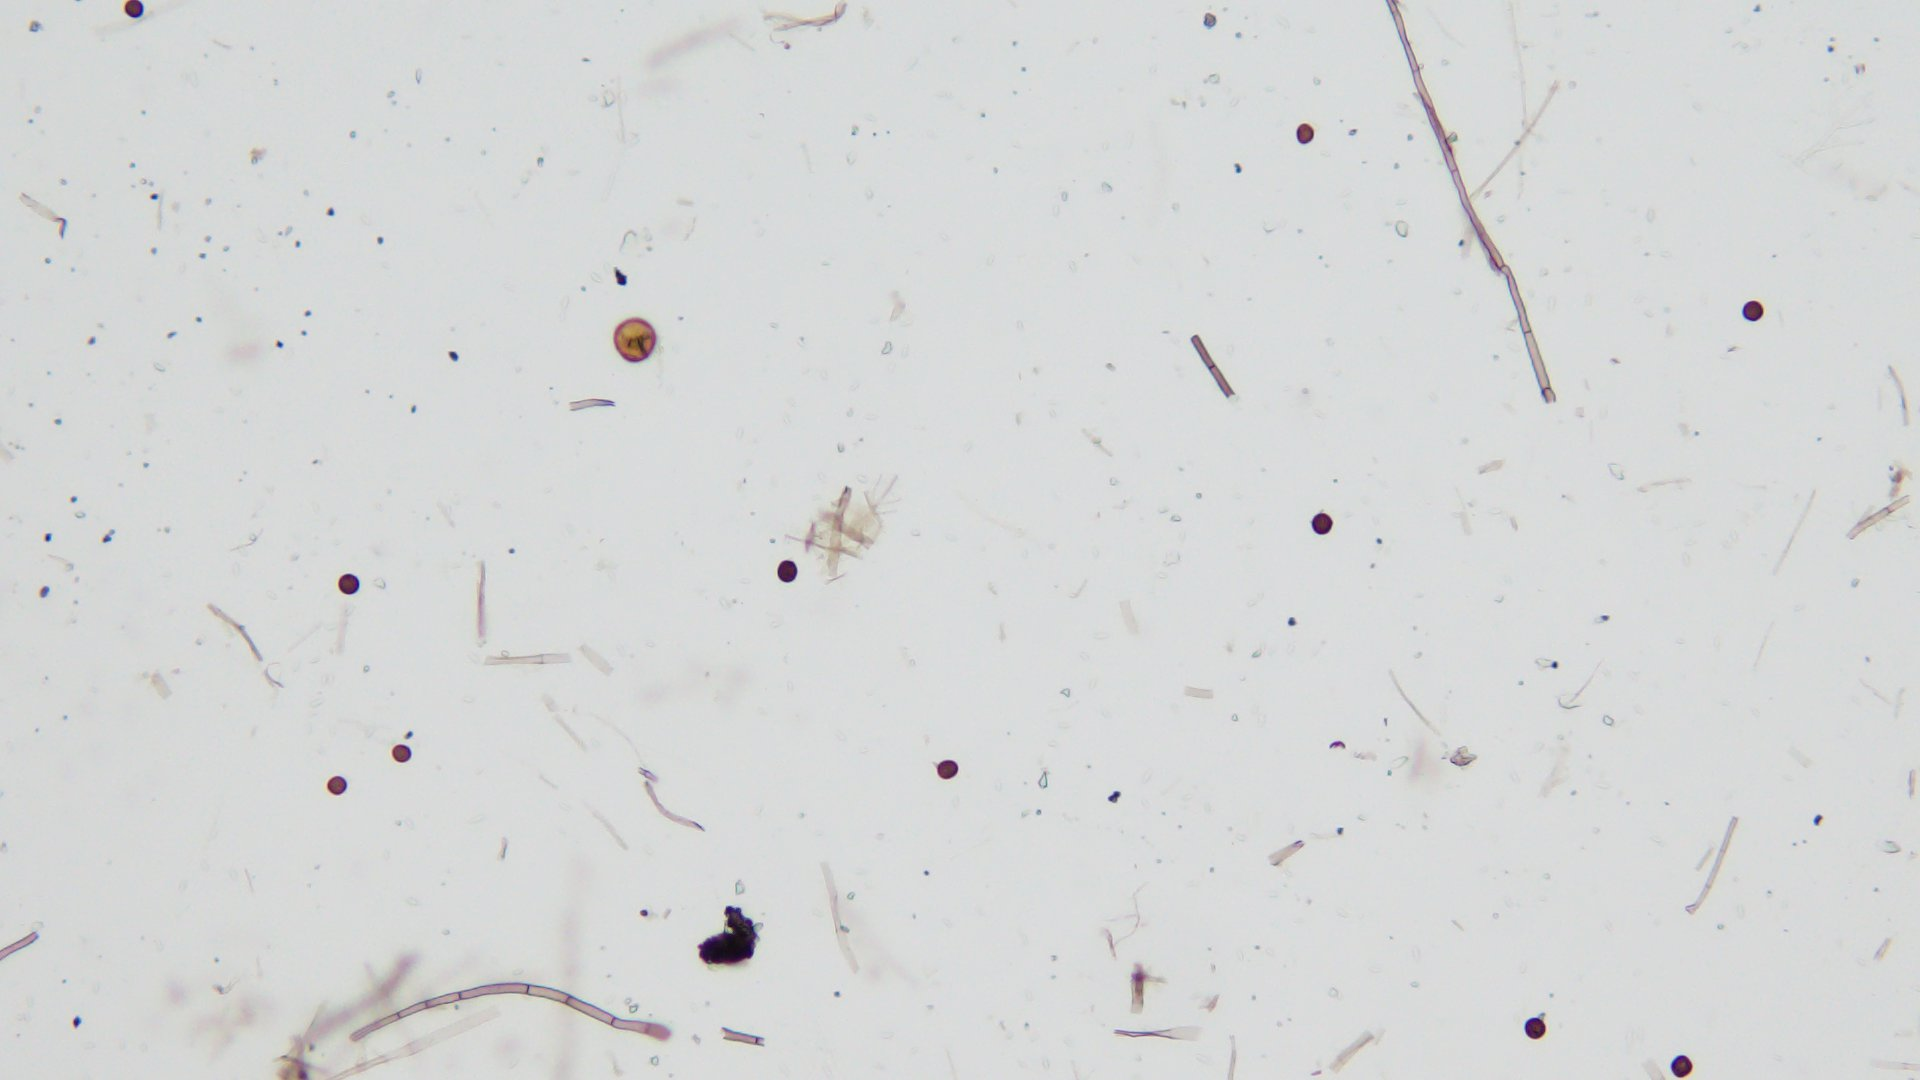shs_spore: (1668, 1054, 1695, 1077), (938, 758, 961, 781), (1309, 510, 1331, 535), (1522, 1018, 1545, 1039), (777, 560, 796, 585), (1741, 301, 1764, 320), (338, 574, 359, 595), (392, 744, 413, 764), (124, 1, 145, 18), (328, 777, 347, 794)
xb_spore: (612, 319, 655, 363)
